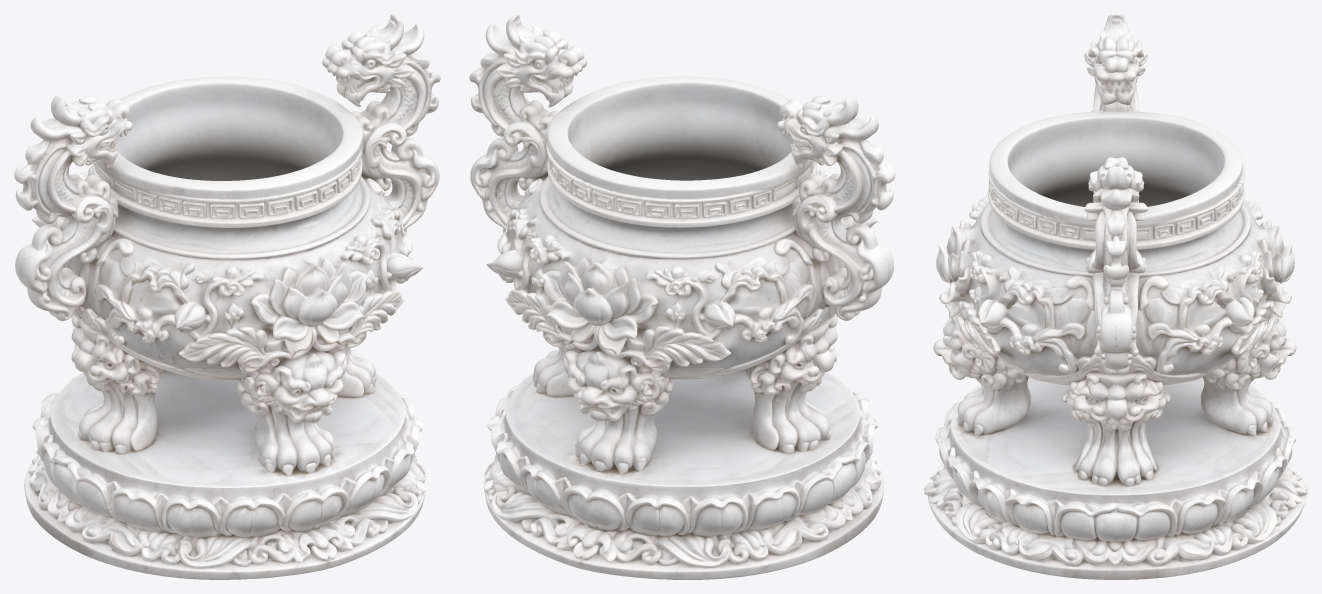
Rendered from base_basic_shaded.glb.
3 renders of one model, left to right at view 1: azimuth 30°, elevation 25°; view 2: azimuth 150°, elevation 25°; view 3: azimuth 270°, elevation 25°, orthographic. The views are drawn at different scales.
Parts seen in each view (by area): view 1: model; view 2: model; view 3: model.
Part boxes in pixels (x1=…): model: x1=14, y1=14, x2=440, y2=579; model: x1=469, y1=14, x2=895, y2=579; model: x1=924, y1=14, x2=1307, y2=579.
Size of the model in its own units: 1.89 by 1.89 by 1.59.
1 material, 1 textured.
